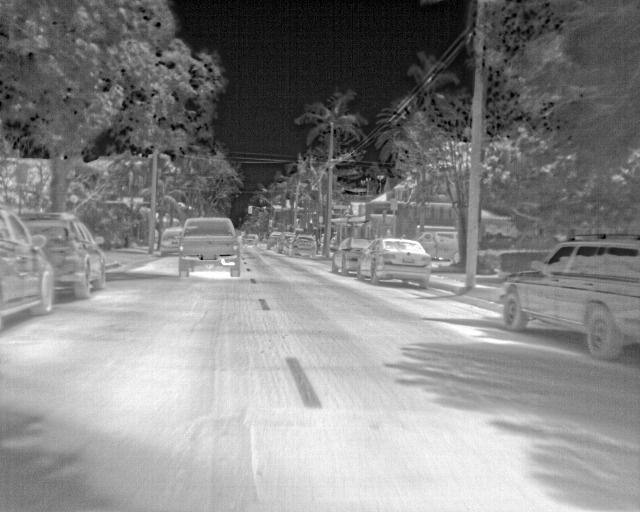bicycle: (498, 240, 639, 360), (16, 211, 107, 300), (0, 206, 55, 332), (357, 236, 429, 288), (177, 217, 239, 277), (331, 237, 371, 275), (289, 232, 317, 260), (160, 226, 186, 256), (277, 232, 294, 255), (266, 232, 281, 252), (241, 232, 260, 247)
